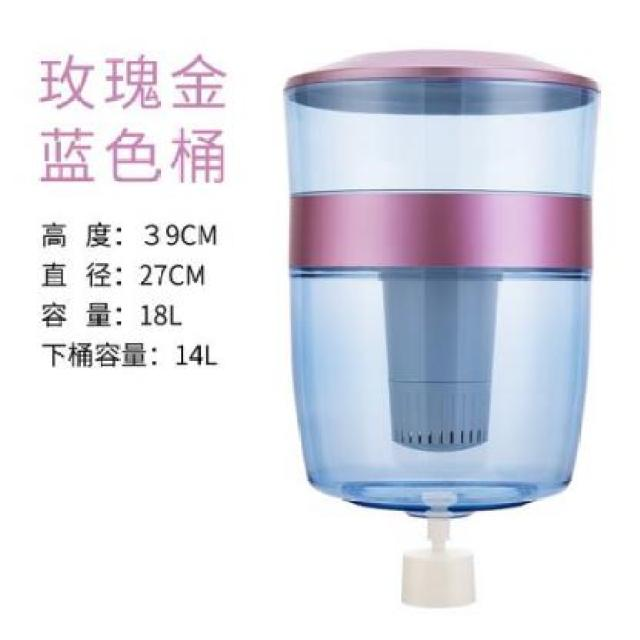coolerbottle: (278, 43, 608, 510)
